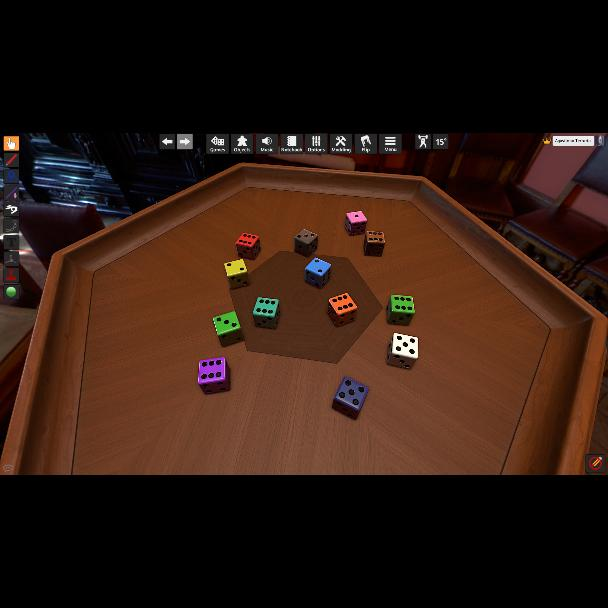d6: (332, 376, 368, 420), (198, 356, 228, 394), (212, 312, 242, 348), (388, 333, 418, 369), (327, 293, 355, 327), (387, 295, 415, 327), (252, 297, 280, 329), (234, 232, 260, 262), (224, 258, 248, 290), (305, 258, 329, 290), (294, 230, 316, 258), (363, 231, 385, 257), (345, 212, 367, 236)
